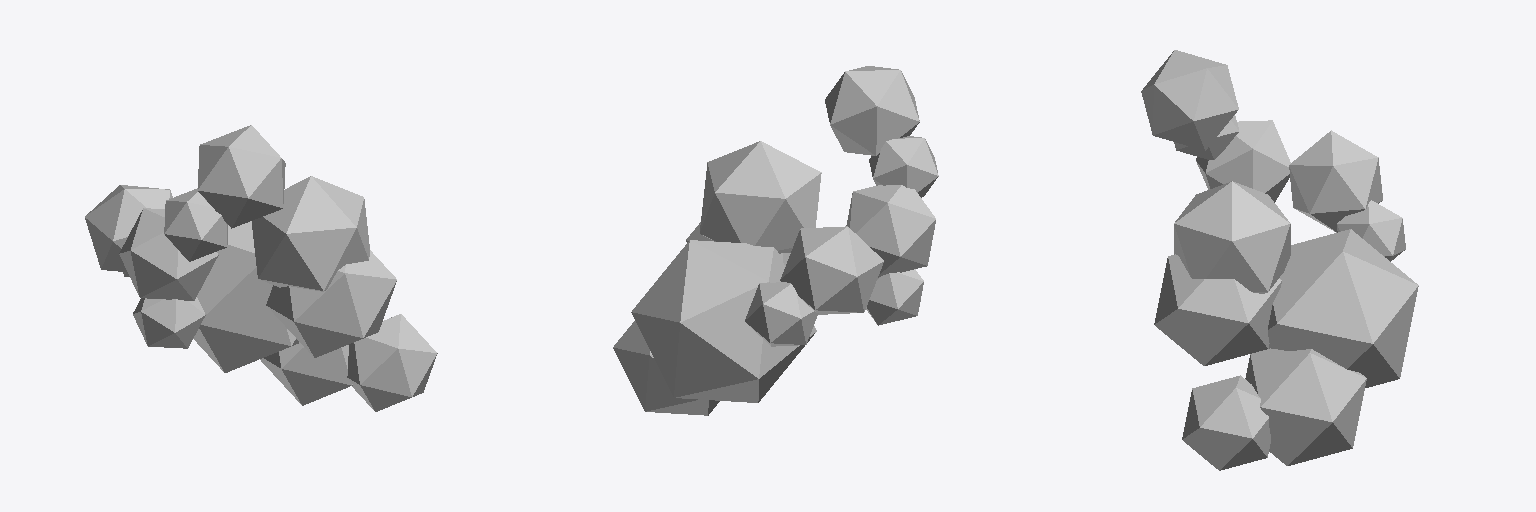
Rendered from memory3.obj.
3 renders of one model, left to right at view 1: azimuth 30°, elevation 25°; view 2: azimuth 150°, elevation 25°; view 3: azimuth 270°, elevation 25°, orthographic.
Parts seen in each view (by area): view 1: Memory3_Icosphere.013; view 2: Memory3_Icosphere.013; view 3: Memory3_Icosphere.013.
Boxes of the visible parts, x1,y1,x2,y2 form: Memory3_Icosphere.013: [85, 125, 437, 411]; Memory3_Icosphere.013: [613, 66, 938, 415]; Memory3_Icosphere.013: [1141, 50, 1418, 470].
Bounding box in the file's own units: 1.32 × 1.44 × 1.08.